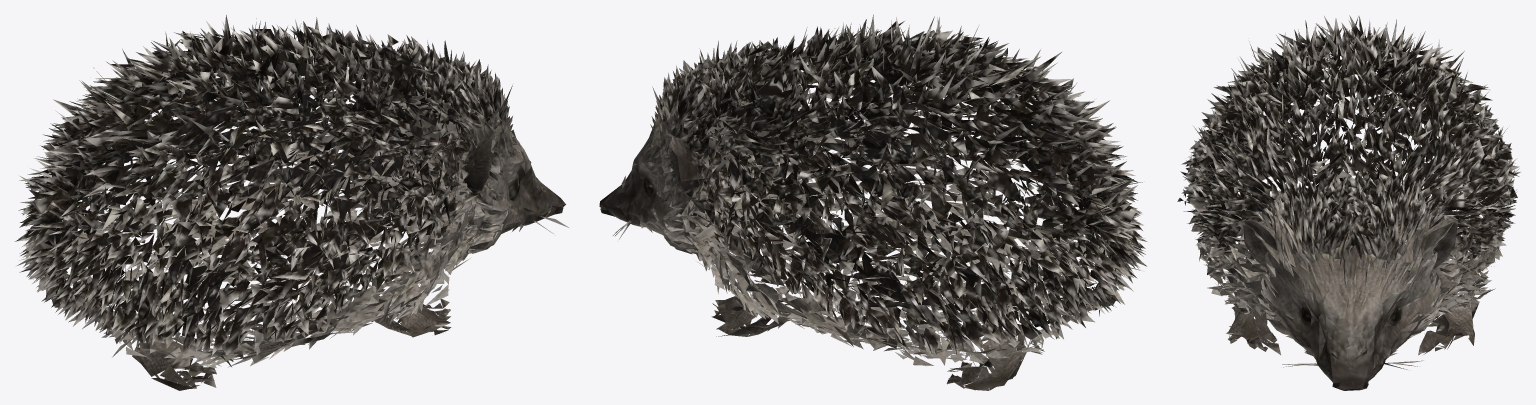
Rendered from herisson.glb.
The picture shows the model from 3 angles, left to right: view 1: azimuth 30°, elevation 25°; view 2: azimuth 150°, elevation 25°; view 3: azimuth 270°, elevation 25°; orthographic projection. The views are drawn at different scales.
Parts seen in each view (by area): view 1: Herisson; view 2: Herisson; view 3: Herisson.
Boxes of the visible parts, bbox=[...] form: Herisson: bbox=[15, 15, 568, 390]; Herisson: bbox=[599, 14, 1147, 390]; Herisson: bbox=[1177, 15, 1520, 390].
Bounding box in the file's own units: 0.165 × 0.0855 × 0.1051.
Materials: 1 (1 with a texture image).
